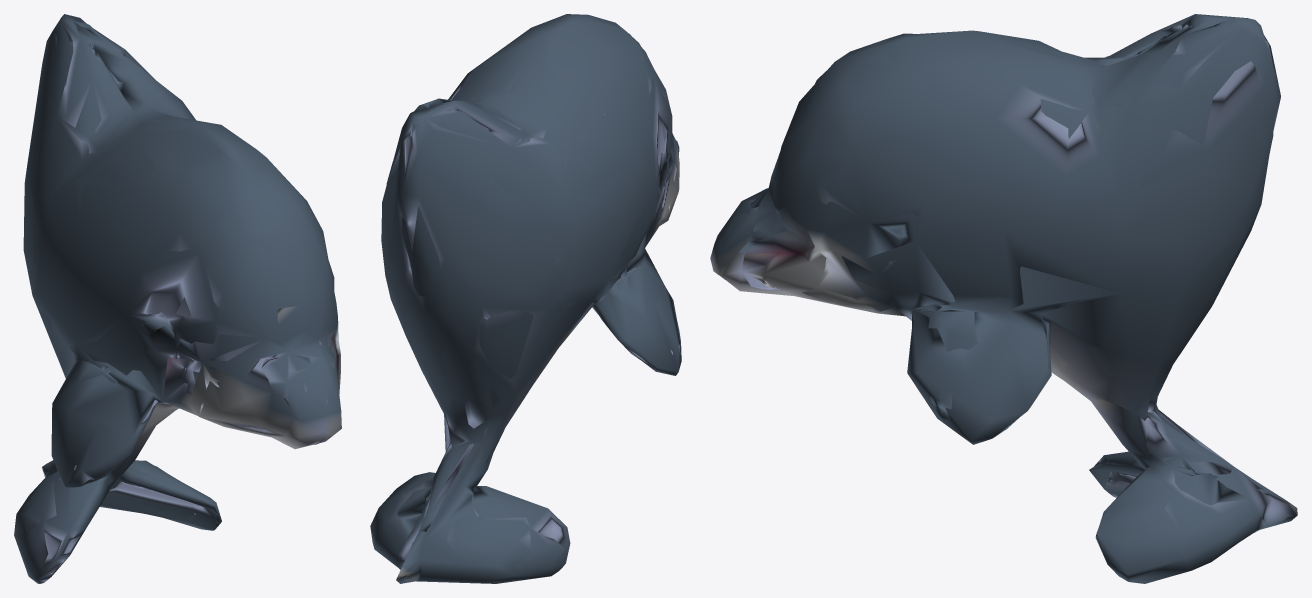
The model's file is gen3d-bottlenose-dolphin-lod0.glb.
3 renders of one model, left to right at view 1: azimuth 30°, elevation 25°; view 2: azimuth 150°, elevation 25°; view 3: azimuth 270°, elevation 25°, orthographic. The views are drawn at different scales.
Visible parts, largest first — view 1: part_0; view 2: part_0; view 3: part_0.
Boxes of the visible parts, x1,y1,x2,y2 form: part_0: (14, 14, 341, 583); part_0: (370, 14, 681, 583); part_0: (710, 14, 1297, 583).
Size of the model in its own units: 0.5592 by 0.9872 by 0.9964.
